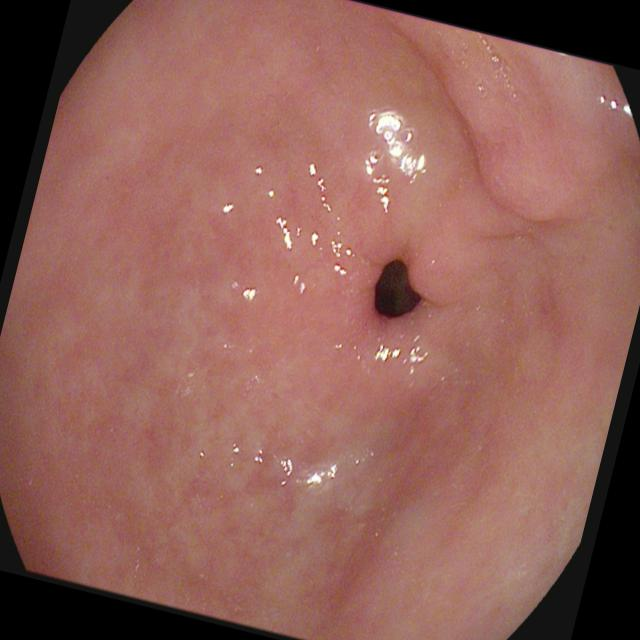normal-pylorus: (282, 13, 590, 411)
